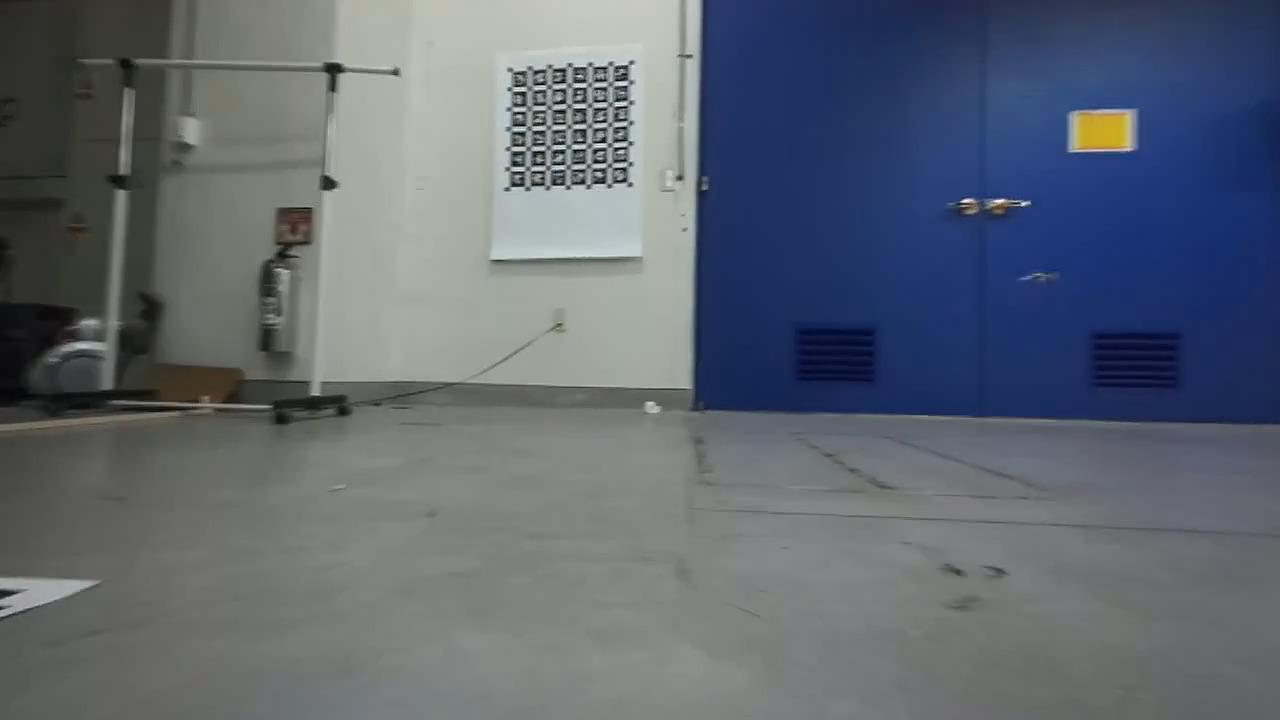crazyflie: (1011, 268, 1064, 287)
